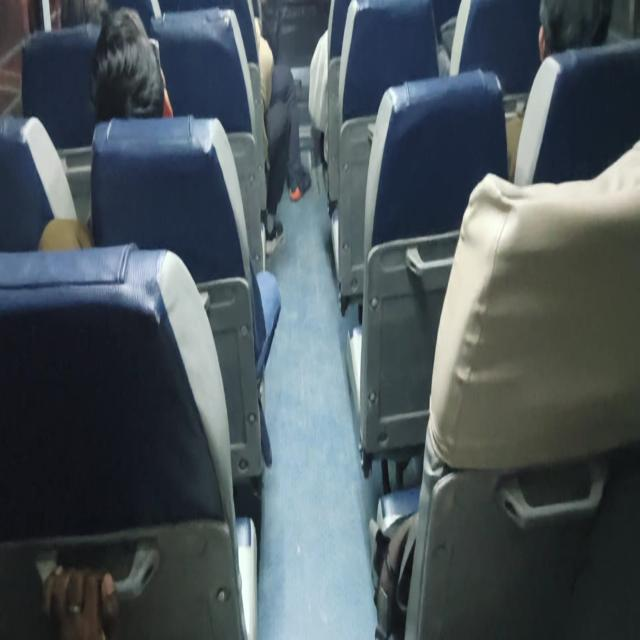person: (515, 0, 630, 86), (94, 11, 178, 118)
